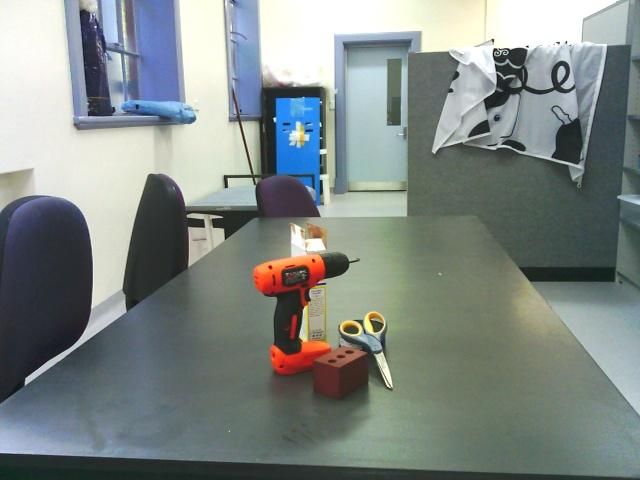004_sugar_box: (289, 224, 330, 343)
035_power_drill: (246, 253, 364, 376)
037_scissors: (339, 312, 391, 390)
061_foam_brick: (312, 342, 369, 400)
